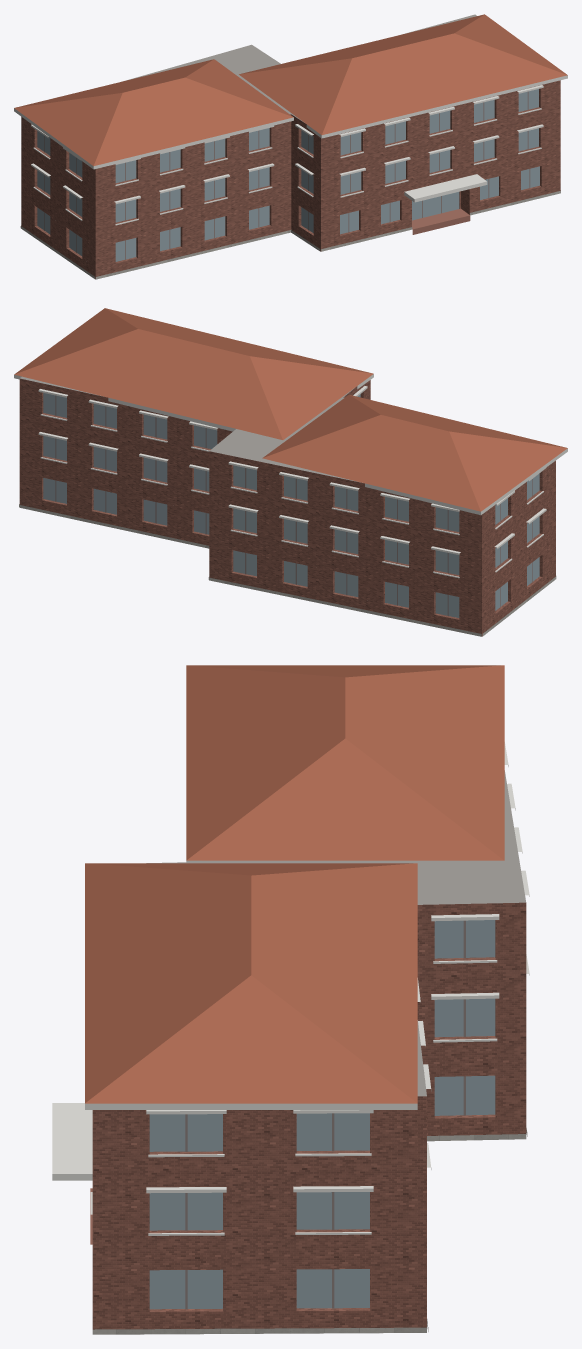
3 renders of one model, top to bottom at view 1: azimuth 30°, elevation 25°; view 2: azimuth 150°, elevation 25°; view 3: azimuth 270°, elevation 25°, orthographic. The views are drawn at different scales.
Parts seen in each view (by area): view 1: osm136242984__wall, osm136242984__roofAccent, osm136242984__glass, osm136242984__trim, osm136242984__roof, osm136242984__base, osm136242984__canopy, osm136242984__frame, osm136242984__entranceThreshold_0; view 2: osm136242984__wall, osm136242984__roofAccent, osm136242984__glass, osm136242984__trim, osm136242984__roof, osm136242984__base, osm136242984__frame; view 3: osm136242984__roofAccent, osm136242984__wall, osm136242984__glass, osm136242984__trim, osm136242984__roof, osm136242984__canopy, osm136242984__base, osm136242984__frame.
Part boxes in pixels (bbox=[...]): osm136242984__wall: bbox=[21, 80, 560, 279]; osm136242984__roofAccent: bbox=[14, 14, 567, 166]; osm136242984__glass: bbox=[37, 89, 539, 261]; osm136242984__trim: bbox=[14, 75, 567, 225]; osm136242984__roof: bbox=[95, 14, 476, 279]; osm136242984__base: bbox=[20, 190, 560, 279]; osm136242984__canopy: bbox=[404, 174, 487, 202]; osm136242984__frame: bbox=[44, 91, 530, 259]; osm136242984__entranceThreshold_0: bbox=[412, 208, 470, 234]; osm136242984__wall: bbox=[19, 378, 555, 636]; osm136242984__roofAccent: bbox=[14, 308, 567, 511]; osm136242984__glass: bbox=[43, 393, 539, 617]; osm136242984__trim: bbox=[14, 374, 567, 578]; osm136242984__roof: bbox=[20, 376, 362, 482]; osm136242984__base: bbox=[19, 504, 556, 636]; osm136242984__frame: bbox=[55, 395, 532, 616]; osm136242984__roofAccent: bbox=[85, 665, 504, 1103]; osm136242984__wall: bbox=[92, 902, 526, 1329]; osm136242984__glass: bbox=[149, 920, 495, 1309]; osm136242984__trim: bbox=[85, 742, 529, 1235]; osm136242984__roof: bbox=[140, 770, 526, 1334]; osm136242984__canopy: bbox=[52, 1103, 92, 1180]; osm136242984__base: bbox=[92, 1128, 527, 1334]; osm136242984__frame: bbox=[185, 920, 465, 1309].
Size of the model in its own units: 35.83 by 11.61 by 16.5.
Materials: 10 (2 with a texture image).
